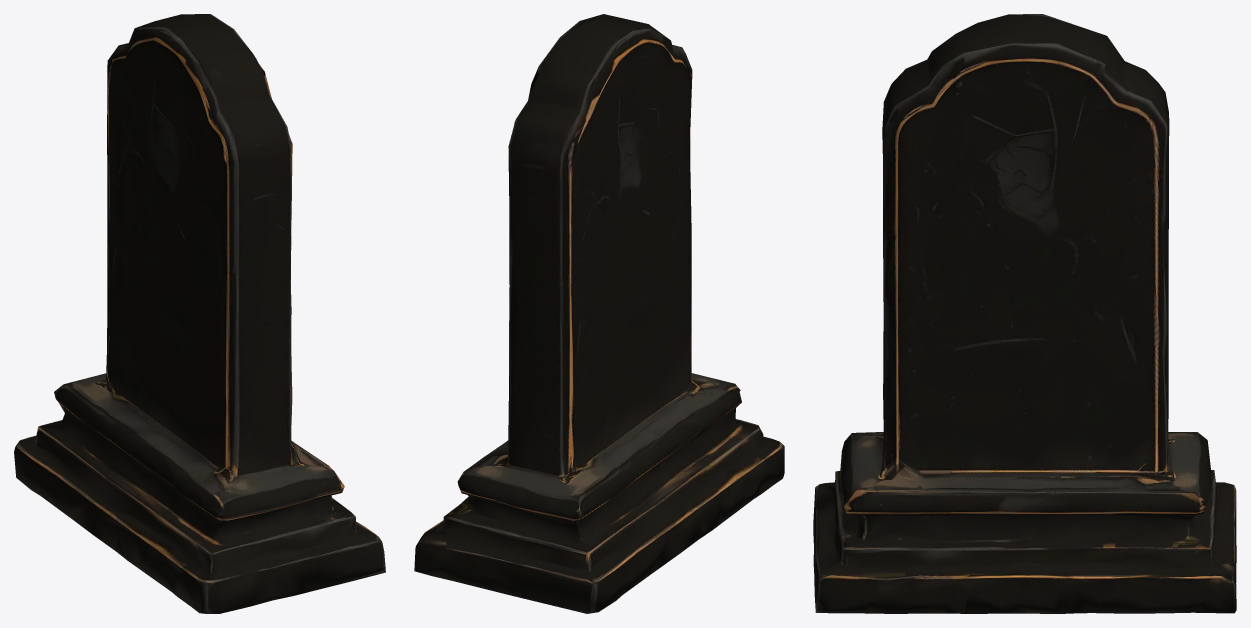
File: ihai.glb
3 renders of one model, left to right at view 1: azimuth 30°, elevation 25°; view 2: azimuth 150°, elevation 25°; view 3: azimuth 270°, elevation 25°, orthographic. The views are drawn at different scales.
Visible parts, largest first — view 1: tripo_node_8995f736-86ad-440e-8837-5db766d9029d; view 2: tripo_node_8995f736-86ad-440e-8837-5db766d9029d; view 3: tripo_node_8995f736-86ad-440e-8837-5db766d9029d.
Part boxes in pixels (left/top/right/bottom): tripo_node_8995f736-86ad-440e-8837-5db766d9029d: left=14, top=14, right=385, bottom=613; tripo_node_8995f736-86ad-440e-8837-5db766d9029d: left=414, top=14, right=784, bottom=613; tripo_node_8995f736-86ad-440e-8837-5db766d9029d: left=813, top=14, right=1236, bottom=613.
Size of the model in its own units: 0.3887 by 1 by 0.7122.
1 material, 1 textured.
